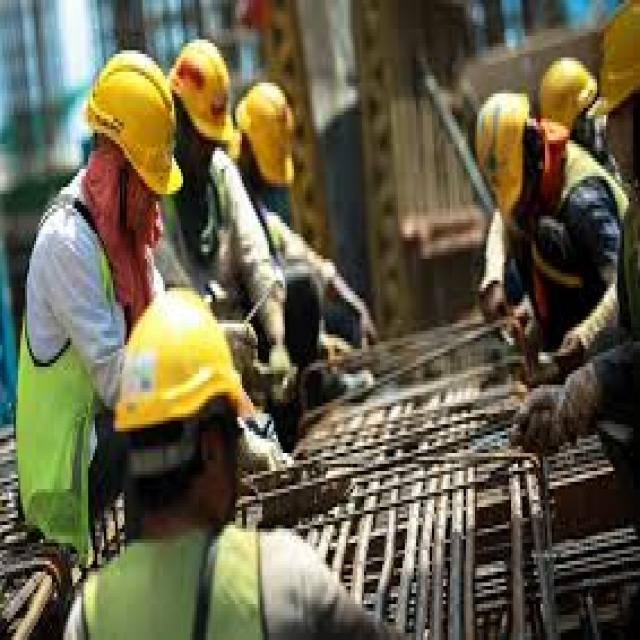Reflective-Jacket: (513, 140, 640, 374)
Safety-Helmet: (109, 281, 248, 438), (79, 50, 183, 202), (466, 75, 543, 234), (233, 72, 307, 190), (168, 32, 235, 148), (532, 46, 602, 154), (588, 0, 640, 126)
